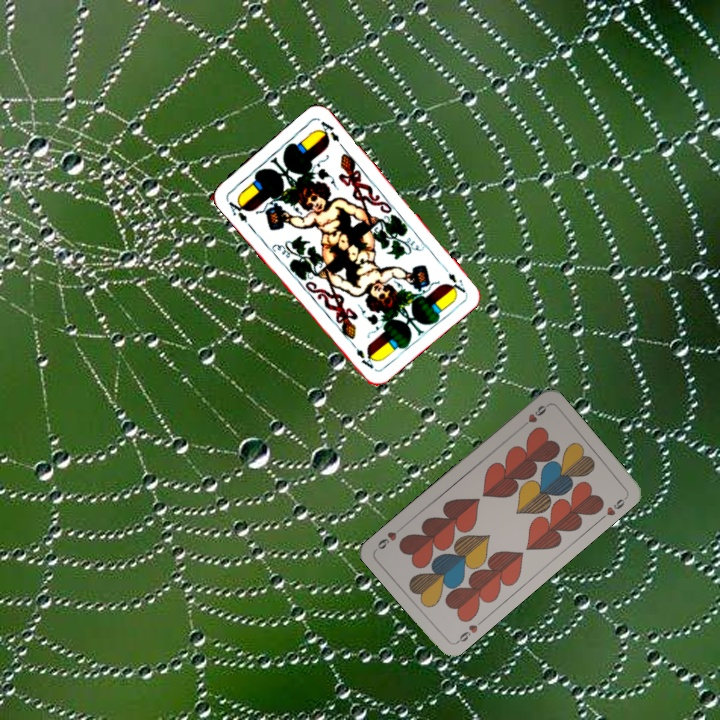EA: (438, 261, 468, 295), (223, 195, 250, 225)
H9: (516, 401, 550, 431), (452, 616, 486, 646)
